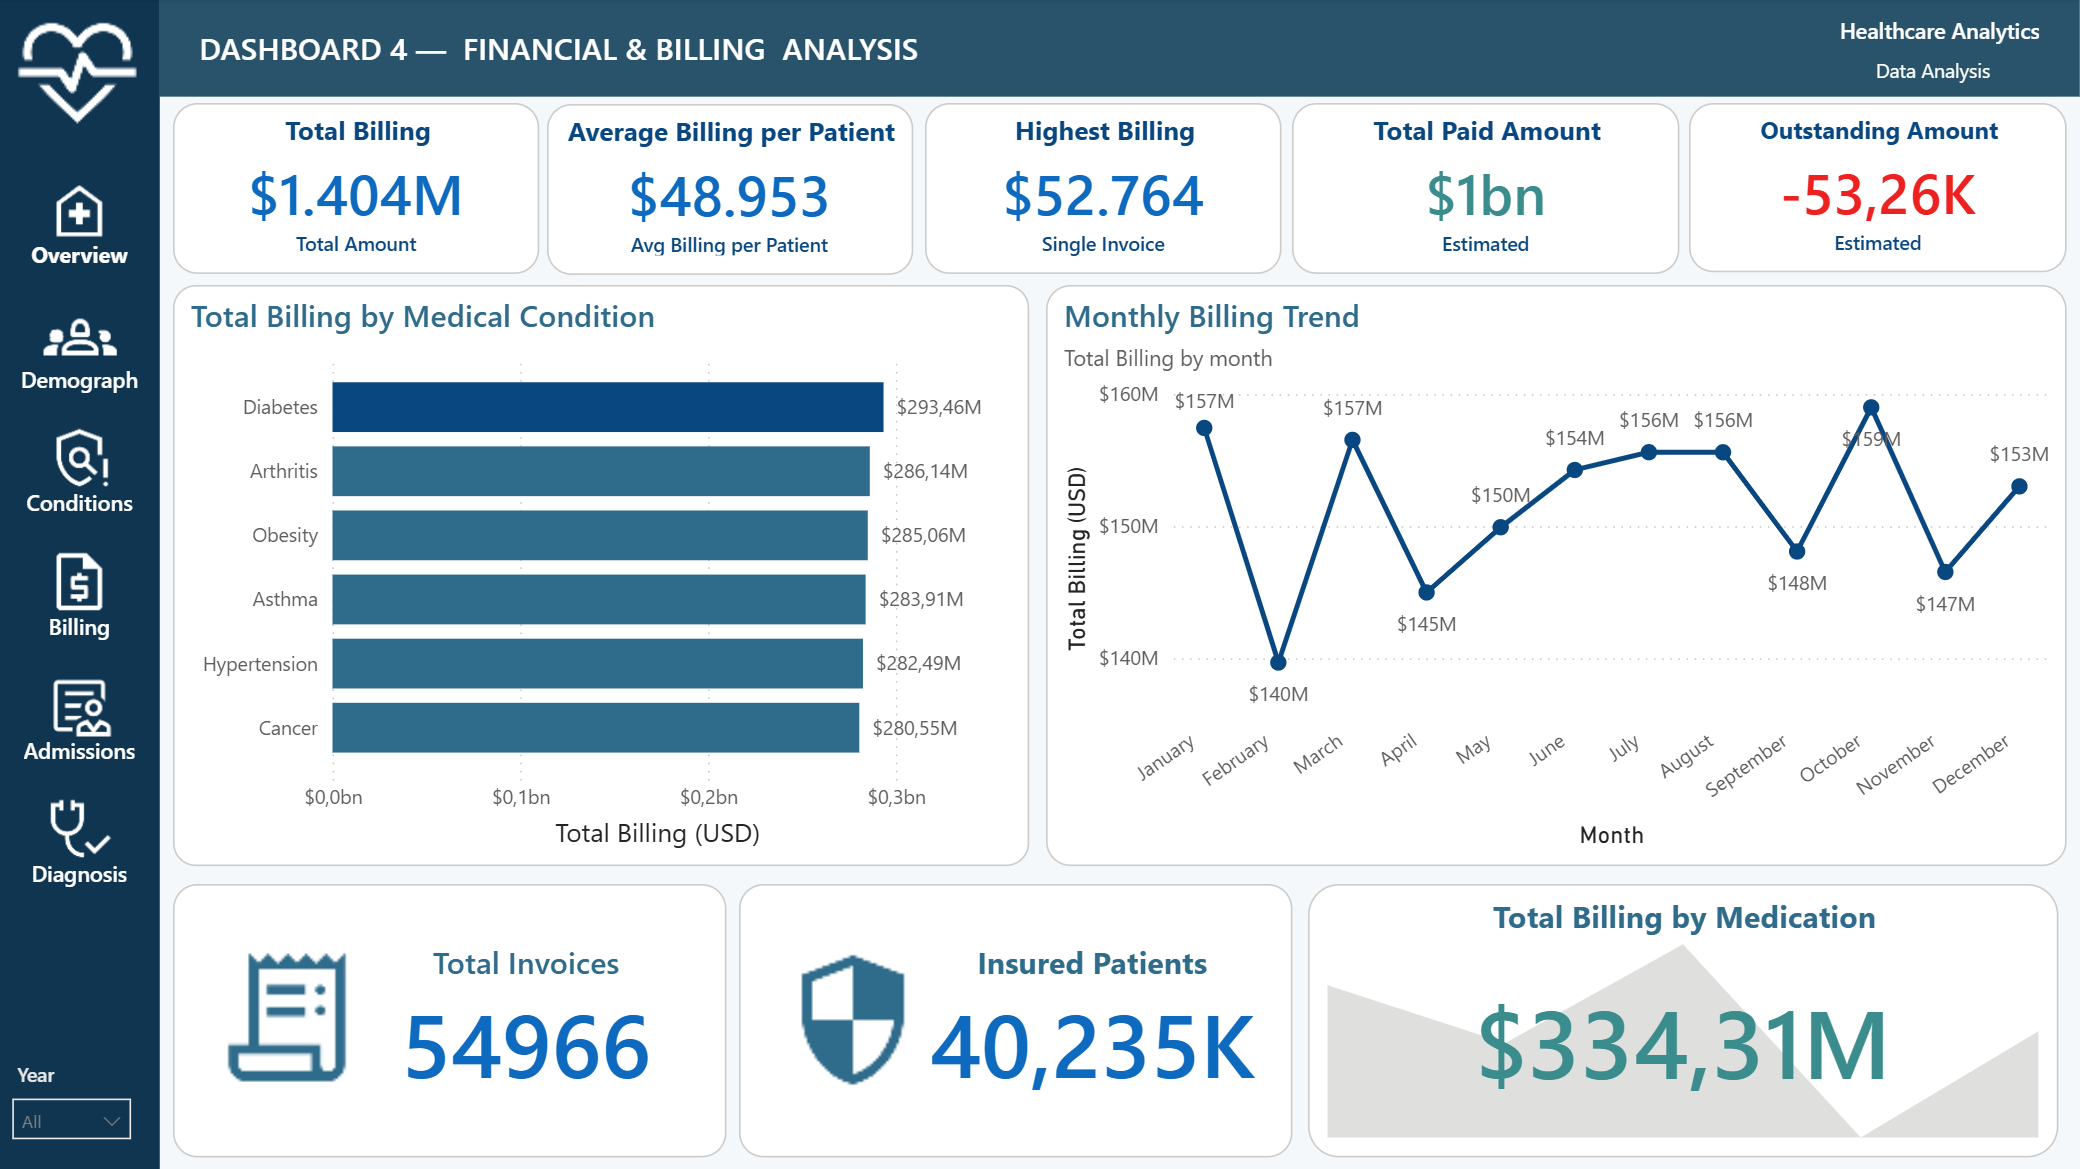

The dashboard page shown, as its layout file describes it:
{"tool":"powerbi","page":{"name":"Billing","canvas":[1280,720],"ordinal":3},"visuals":[{"type":"group","id":"g1","title":"Navigation Bar","box":[0.6,0,100.2,720],"z":0},{"type":"shape","title":"Sidebar","box":[0.6,0,100,720],"z":1000,"group":"g1"},{"type":"shape","box":[99.9,0,1180.1,60.2],"z":1000},{"type":"actionButton","title":"NAV - Overview","box":[9.2,105,84,64],"z":1500,"group":"g1"},{"type":"textbox","title":"Left header title","box":[120,12,500.7,35],"z":2000},{"type":"actionButton","title":"NAV - Demographics","box":[9.2,181,84,64.5],"z":2000,"group":"g1"},{"type":"textbox","box":[1070.2,5.5,190.4,29.5],"z":3000},{"type":"actionButton","title":"NAV - Conditions","box":[9.2,257,84,64.5],"z":3000,"group":"g1"},{"type":"textbox","box":[1113.2,29.5,153.6,30.1],"z":4000},{"type":"actionButton","title":"NAV - Billing","box":[9.2,333,84,64.5],"z":4000,"group":"g1"},{"type":"image","box":[0,0,99.6,89.7],"z":5000},{"type":"actionButton","title":"NAV - Admissions","box":[9.2,409,84,64.5],"z":5000,"group":"g1"},{"type":"cardVisual","title":"Total Billing","fields":{"Data":["Healthcare Dataset.Total Billing"]},"box":[108.7,63.9,225.3,104.7],"z":6000},{"type":"actionButton","title":"NAV - Diagnosis","box":[9.2,485,84,64.5],"z":6000,"group":"g1"},{"type":"cardVisual","title":"Outstanding Amount","fields":{"Data":["Healthcare Dataset.Estimated Outstanding Amount"]},"box":[1040,64,232,104],"z":7000},{"type":"cardVisual","title":"Highest Billing","fields":{"Data":["Healthcare Dataset.Highest Billing"]},"box":[570.7,63.9,219.3,105.3],"z":8000},{"type":"cardVisual","title":"Average Billing per Patient","fields":{"Data":["Healthcare Dataset.Avg Billing per Patient"]},"box":[338.5,64.5,224.7,104.7],"z":9000},{"type":"cardVisual","title":"Total Paid Amount","fields":{"Data":["Healthcare Dataset.Estimated Paid Amount"]},"box":[796,64,238,105],"z":10000},{"type":"clusteredBarChart","title":"Total Billing by Medical Condition","fields":{"Category":["Healthcare Dataset.Medical Condition"],"Y":["Healthcare Dataset.Total Billing"]},"box":[108.7,175.7,526.5,356.9],"z":11000},{"type":"lineChart","title":"Monthly Billing Trend","fields":{"Category":["Healthcare Dataset.Date of Admission.Variation.Date Hierarchy.Month"],"Y":["Healthcare Dataset.Total Billing"]},"box":[645.1,175.7,627.2,356.9],"z":12000},{"type":"cardVisual","title":"Total Invoices","fields":{"Data":["Healthcare Dataset.Total Invoices"]},"box":[108.7,543.7,340,167.7],"z":13000},{"type":"cardVisual","fields":{"Data":["Healthcare Dataset.Insured Patients"]},"box":[456.5,543.7,340,167.7],"z":14000},{"type":"kpi","fields":{"Indicator":["Healthcare Dataset.Total Billing"],"TrendLine":["Healthcare Dataset.Medication"]},"box":[806,543.7,460.8,167.7],"z":15000},{"type":"slicer","fields":{"Values":["Healthcare Dataset.Date of Admission.Variation.Date Hierarchy.Year"]},"box":[0,647.6,92.8,55.1],"z":16000}]}

Visuals, with their boxes in screenshot pixels (x1, y1, x2, y2), scaled from the page's 1280x720 canvas onto the 2080x1169 screenshot:
"Navigation Bar" group: {"x1": 1, "y1": 0, "x2": 164, "y2": 1168}
"Sidebar" shape: {"x1": 1, "y1": 0, "x2": 163, "y2": 1168}
shape: {"x1": 162, "y1": 0, "x2": 2079, "y2": 98}
"NAV - Overview" actionButton: {"x1": 15, "y1": 170, "x2": 151, "y2": 274}
"Left header title" textbox: {"x1": 195, "y1": 19, "x2": 1009, "y2": 76}
"NAV - Demographics" actionButton: {"x1": 15, "y1": 294, "x2": 151, "y2": 399}
textbox: {"x1": 1739, "y1": 9, "x2": 2048, "y2": 57}
"NAV - Conditions" actionButton: {"x1": 15, "y1": 417, "x2": 151, "y2": 522}
textbox: {"x1": 1809, "y1": 48, "x2": 2059, "y2": 97}
"NAV - Billing" actionButton: {"x1": 15, "y1": 541, "x2": 151, "y2": 645}
image: {"x1": 0, "y1": 0, "x2": 162, "y2": 146}
"NAV - Admissions" actionButton: {"x1": 15, "y1": 664, "x2": 151, "y2": 769}
"Total Billing" cardVisual: {"x1": 177, "y1": 104, "x2": 543, "y2": 274}
"NAV - Diagnosis" actionButton: {"x1": 15, "y1": 787, "x2": 151, "y2": 892}
"Outstanding Amount" cardVisual: {"x1": 1690, "y1": 104, "x2": 2067, "y2": 273}
"Highest Billing" cardVisual: {"x1": 927, "y1": 104, "x2": 1284, "y2": 275}
"Average Billing per Patient" cardVisual: {"x1": 550, "y1": 105, "x2": 915, "y2": 275}
"Total Paid Amount" cardVisual: {"x1": 1294, "y1": 104, "x2": 1680, "y2": 274}
"Total Billing by Medical Condition" clusteredBarChart: {"x1": 177, "y1": 285, "x2": 1032, "y2": 865}
"Monthly Billing Trend" lineChart: {"x1": 1048, "y1": 285, "x2": 2067, "y2": 865}
"Total Invoices" cardVisual: {"x1": 177, "y1": 883, "x2": 729, "y2": 1155}
cardVisual - Healthcare Dataset.Insured Patients: {"x1": 742, "y1": 883, "x2": 1294, "y2": 1155}
kpi - Healthcare Dataset.Total Billing x Healthcare Dataset.Medication: {"x1": 1310, "y1": 883, "x2": 2059, "y2": 1155}
slicer - Healthcare Dataset.Date of Admission.Variation.Date Hierarchy.Year: {"x1": 0, "y1": 1051, "x2": 151, "y2": 1141}
